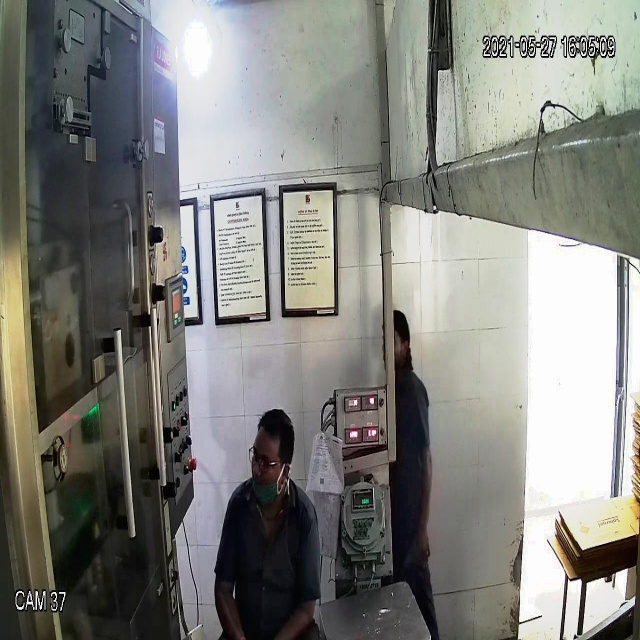Gafas: (246, 438, 284, 472)
